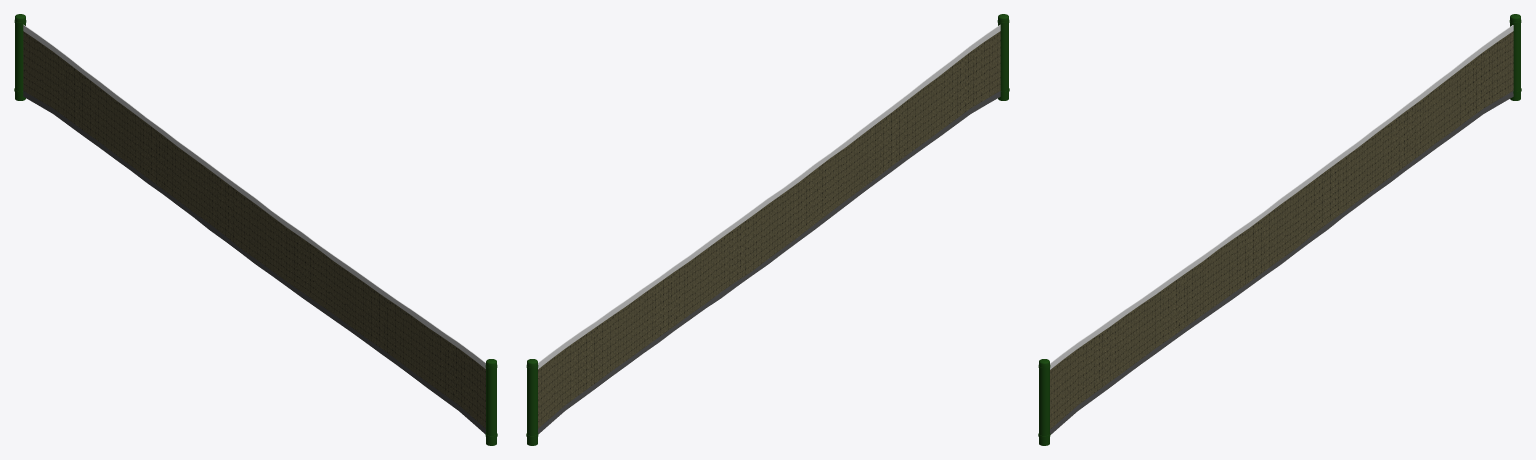
File: net.fbx
3 renders of one model, left to right at view 1: azimuth 30°, elevation 25°; view 2: azimuth 150°, elevation 25°; view 3: azimuth 330°, elevation 25°, orthographic.
Visible parts, largest first — view 1: Net, NetPost.001, NetPost; view 2: Net, NetPost, NetPost.001; view 3: Net, NetPost.001, NetPost.
Part boxes in pixels (x1,y1,x2,y2): Net: [23, 24, 485, 434]; NetPost.001: [485, 359, 497, 445]; NetPost: [14, 14, 26, 100]; Net: [538, 24, 1000, 434]; NetPost: [526, 359, 538, 445]; NetPost.001: [997, 14, 1009, 100]; Net: [1050, 25, 1513, 434]; NetPost.001: [1038, 359, 1050, 445]; NetPost: [1509, 14, 1521, 100].
Size of the model in its own units: 15.17 by 117 by 1217.
